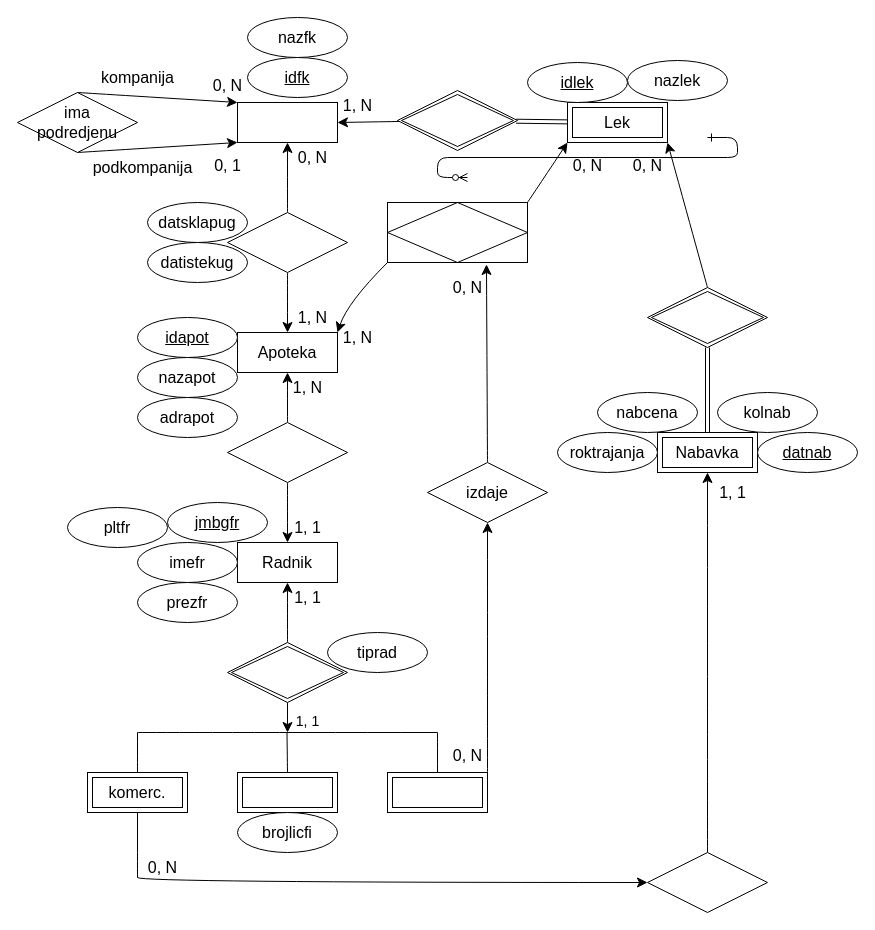
This 875x930 diagram has some shape labels left out. Each missing label, with the centre of its shape:
farm. inz.: the point at 287,792
farm.tehn.: the point at 437,792
Farma. kompanija: the point at 287,122
ima ugvor: the point at 287,242
IS-A: the point at 287,672
nabavlja: the point at 707,882
nabavlja se: the point at 707,317
Ponuda: the point at 457,232
proizvodi: the point at 457,120
radi: the point at 287,452
